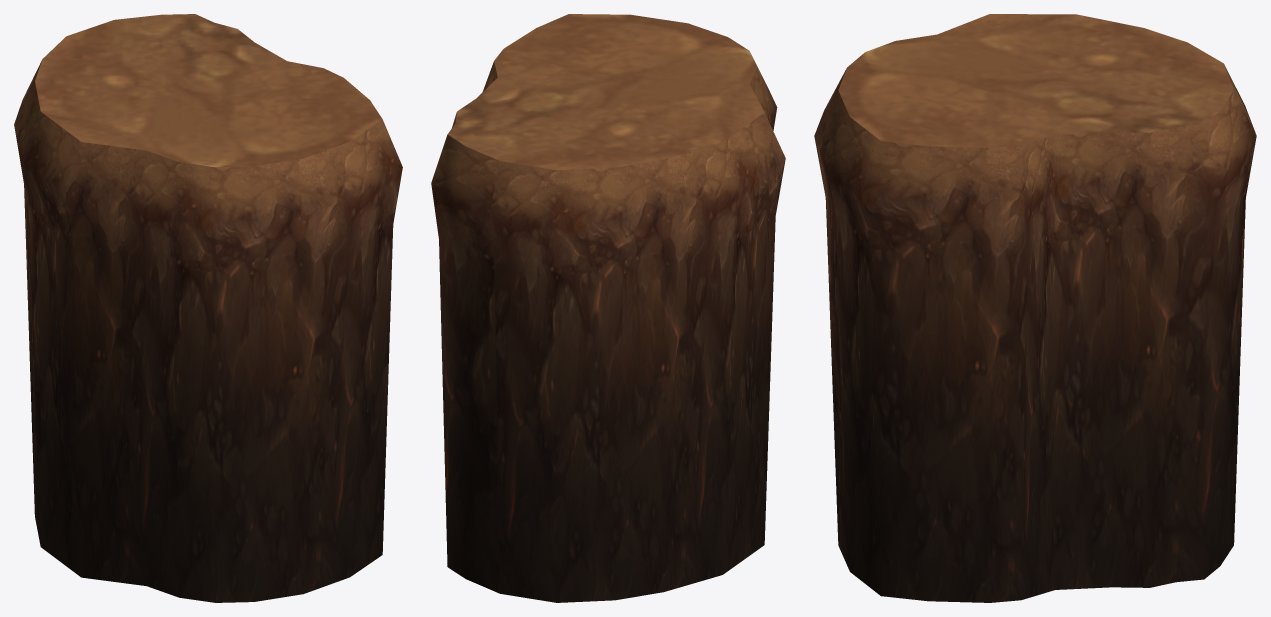
File: DiZuo01.FBX
3 views of the same model, side by side, from view 1: azimuth 30°, elevation 25°; view 2: azimuth 150°, elevation 25°; view 3: azimuth 270°, elevation 25° (orthographic). The views are drawn at different scales.
Parts seen in each view (by area): view 1: DiZuo01, DiZuo01b; view 2: DiZuo01, DiZuo01b; view 3: DiZuo01, DiZuo01b.
Boxes of the visible parts, box(x1,y1,x2,y2) form: DiZuo01: box(14, 60, 402, 602); DiZuo01b: box(35, 14, 382, 167); DiZuo01: box(431, 56, 785, 602); DiZuo01b: box(447, 14, 764, 170); DiZuo01: box(814, 64, 1256, 602); DiZuo01b: box(838, 14, 1233, 147).
Bounding box in the file's own units: 839 × 1180 × 1040.
